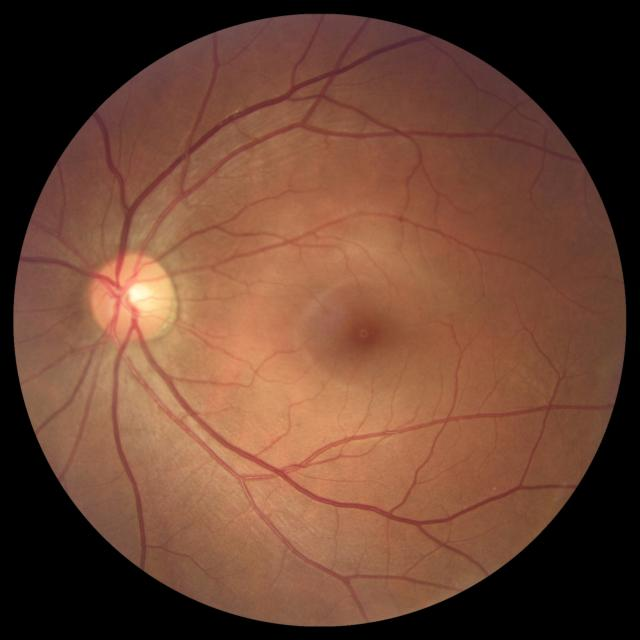OC: (114, 279, 150, 312)
OD: (91, 252, 175, 342)
